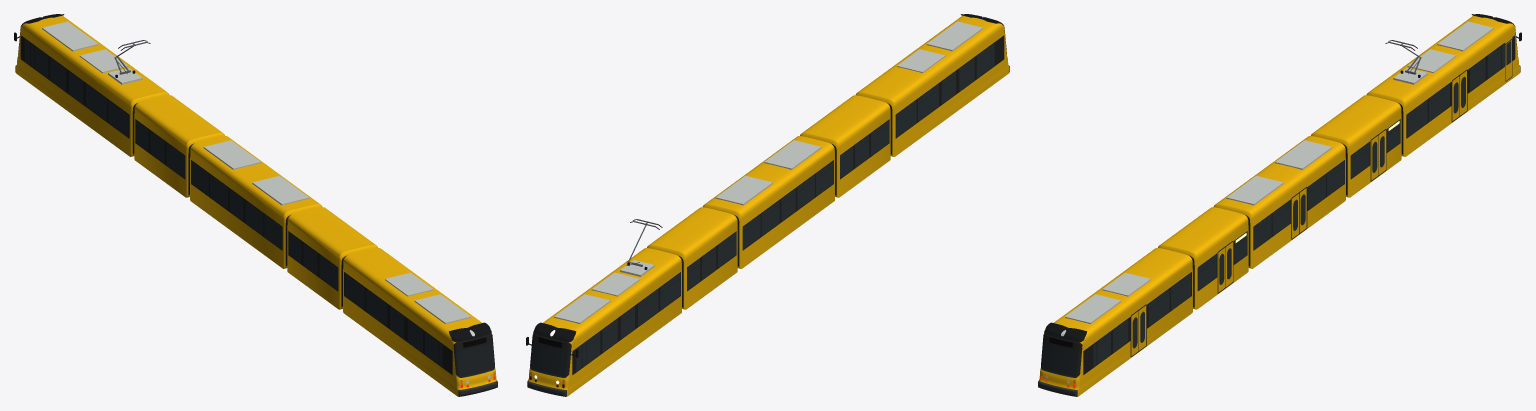
Rendered from tram_sections.glb.
3 views of the same model, side by side, from view 1: azimuth 30°, elevation 25°; view 2: azimuth 150°, elevation 25°; view 3: azimuth 330°, elevation 25° (orthographic).
Parts seen in each view (by area): view 1: Body_4, Detail_4, Body_0, Body_2, Detail_0, Detail_2, Body_1, Body_3, Detail_3, Detail_1; view 2: Detail_0, Body_4, Body_0, Body_2, Detail_4, Detail_2, Body_1, Body_3, Detail_1, Detail_3; view 3: Detail_4, Body_4, Body_0, Detail_0, Body_2, Detail_2, Body_1, Body_3, Detail_3, Detail_1.
Boxes of the visible parts, left/top/right/bottom form: Body_4: left=343, top=248, right=496, bottom=396; Detail_4: left=344, top=272, right=497, bottom=396; Body_0: left=15, top=15, right=169, bottom=156; Body_2: left=190, top=136, right=322, bottom=268; Detail_0: left=14, top=14, right=150, bottom=153; Detail_2: left=191, top=140, right=309, bottom=265; Body_1: left=134, top=95, right=224, bottom=197; Body_3: left=287, top=207, right=377, bottom=309; Detail_3: left=288, top=231, right=343, bottom=306; Detail_1: left=135, top=119, right=190, bottom=194; Detail_0: left=526, top=219, right=683, bottom=396; Body_4: left=855, top=15, right=1009, bottom=156; Body_0: left=528, top=248, right=681, bottom=396; Body_2: left=702, top=136, right=834, bottom=268; Detail_4: left=895, top=14, right=1009, bottom=138; Detail_2: left=715, top=140, right=835, bottom=250; Body_1: left=647, top=207, right=737, bottom=309; Body_3: left=800, top=95, right=890, bottom=197; Detail_1: left=687, top=217, right=738, bottom=291; Detail_3: left=840, top=106, right=891, bottom=179; Detail_4: left=1038, top=272, right=1191, bottom=396; Body_4: left=1039, top=248, right=1192, bottom=396; Body_0: left=1366, top=15, right=1520, bottom=156; Detail_0: left=1385, top=14, right=1521, bottom=153; Body_2: left=1213, top=136, right=1345, bottom=268; Detail_2: left=1226, top=140, right=1344, bottom=265; Body_1: left=1311, top=95, right=1401, bottom=197; Body_3: left=1158, top=207, right=1248, bottom=309; Detail_3: left=1192, top=231, right=1247, bottom=306; Detail_1: left=1345, top=119, right=1400, bottom=194.
Bounding box in the file's own units: 2.97 × 5.67 × 45.12.
